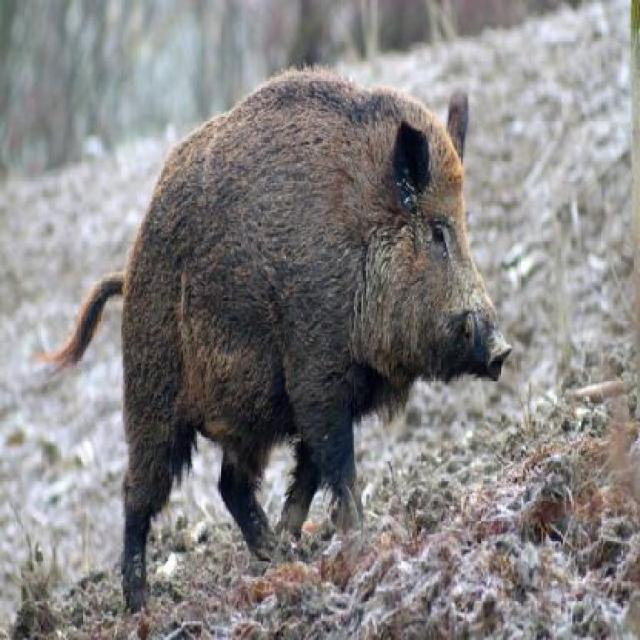wildboar: (27, 61, 515, 618)
